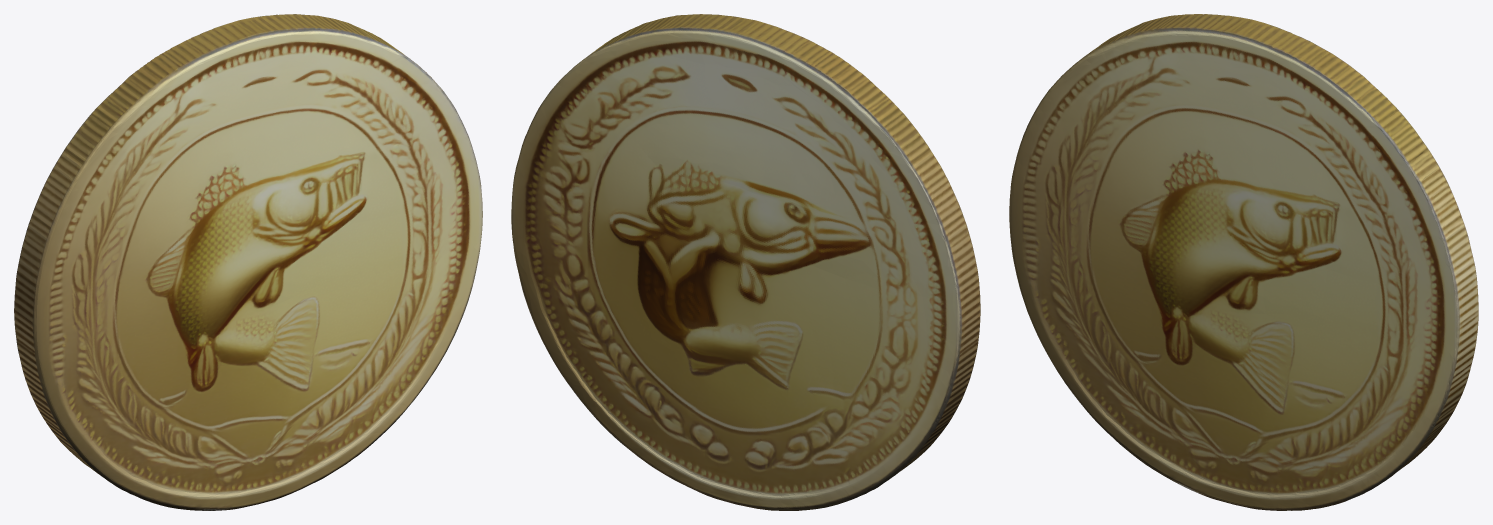
The model's file is gold_coin.glb.
3 renders of one model, left to right at view 1: azimuth 30°, elevation 25°; view 2: azimuth 150°, elevation 25°; view 3: azimuth 330°, elevation 25°, orthographic.
Parts seen in each view (by area): view 1: geometry_0; view 2: geometry_0; view 3: geometry_0.
Part boxes in pixels (box(x1,y1,x2,y2)): geometry_0: box(14, 14, 482, 510); geometry_0: box(511, 14, 980, 510); geometry_0: box(1009, 14, 1478, 510).
Size of the model in its own units: 1 by 1 by 0.0858.
1 material, 1 textured.
